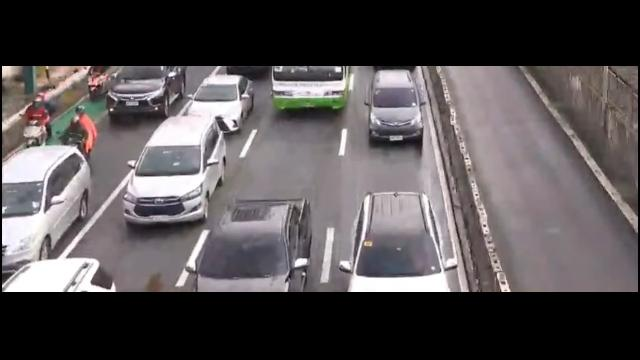bus: (271, 67, 346, 121)
car: (121, 116, 225, 226), (345, 191, 452, 291), (0, 153, 85, 260), (365, 69, 426, 146), (106, 66, 184, 122), (186, 75, 254, 127)
motorcycle: (62, 105, 97, 163), (19, 96, 52, 151), (87, 66, 106, 103)
pickup-truck: (192, 198, 307, 293)
